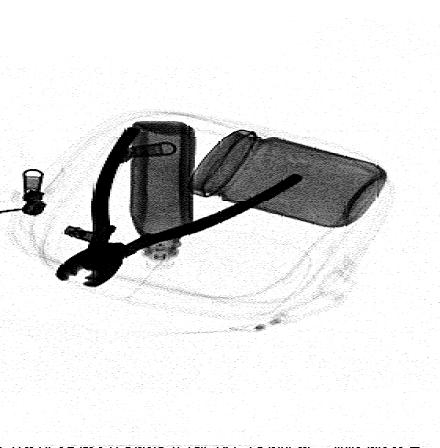Pliers: (54, 126, 309, 287)
